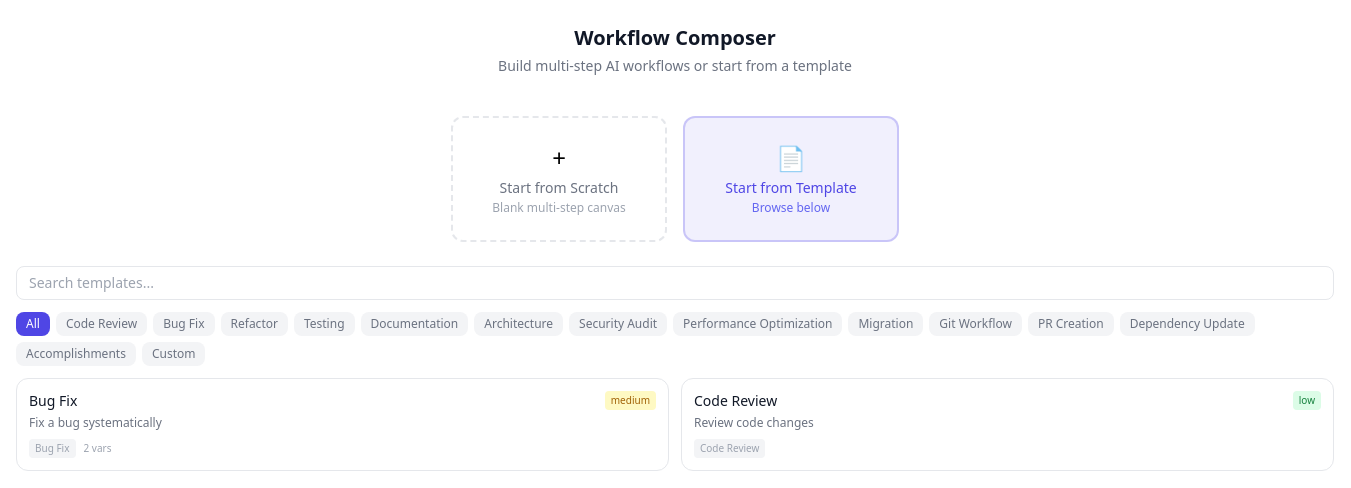
Test case: TemplateLauncher › shows template details when a template is clicked
Expected: the text "Fix a bug systematically" is shown, [29,414,162,431]
What coordinates should you click on to do the following:
click the button "Fix a bug systematically"
I would click on:
 (53, 400)
Its box is [16,378,669,471].
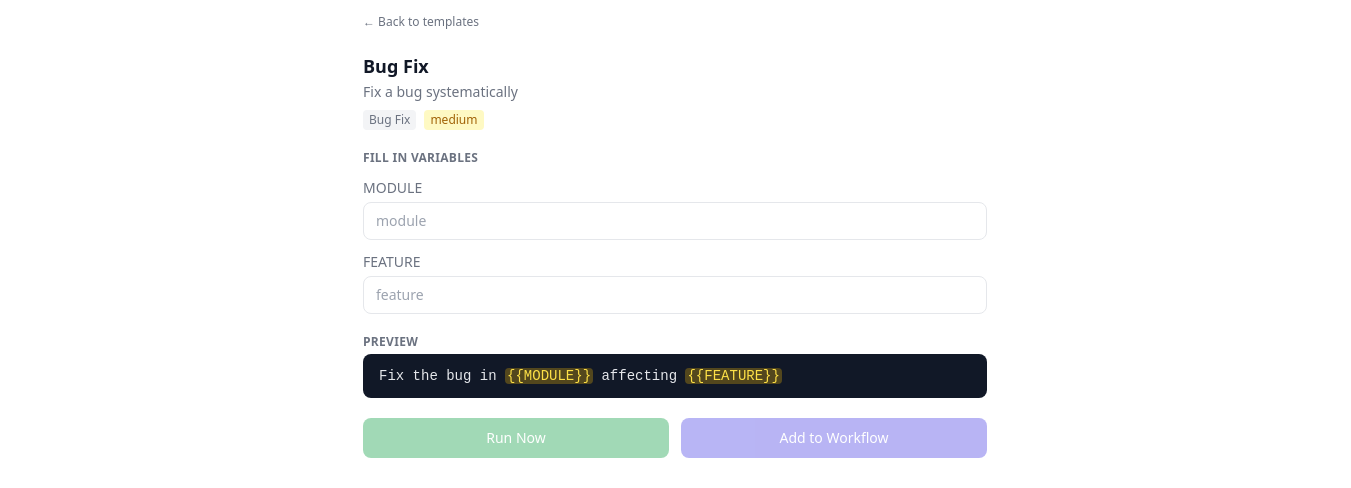
Result: the heading "Fill in Variables" is shown at [363,149,478,166]
Result: the button "Run Now" is shown at [363,418,669,458]
Result: the button "Add to Workflow" is shown at [681,418,987,458]
